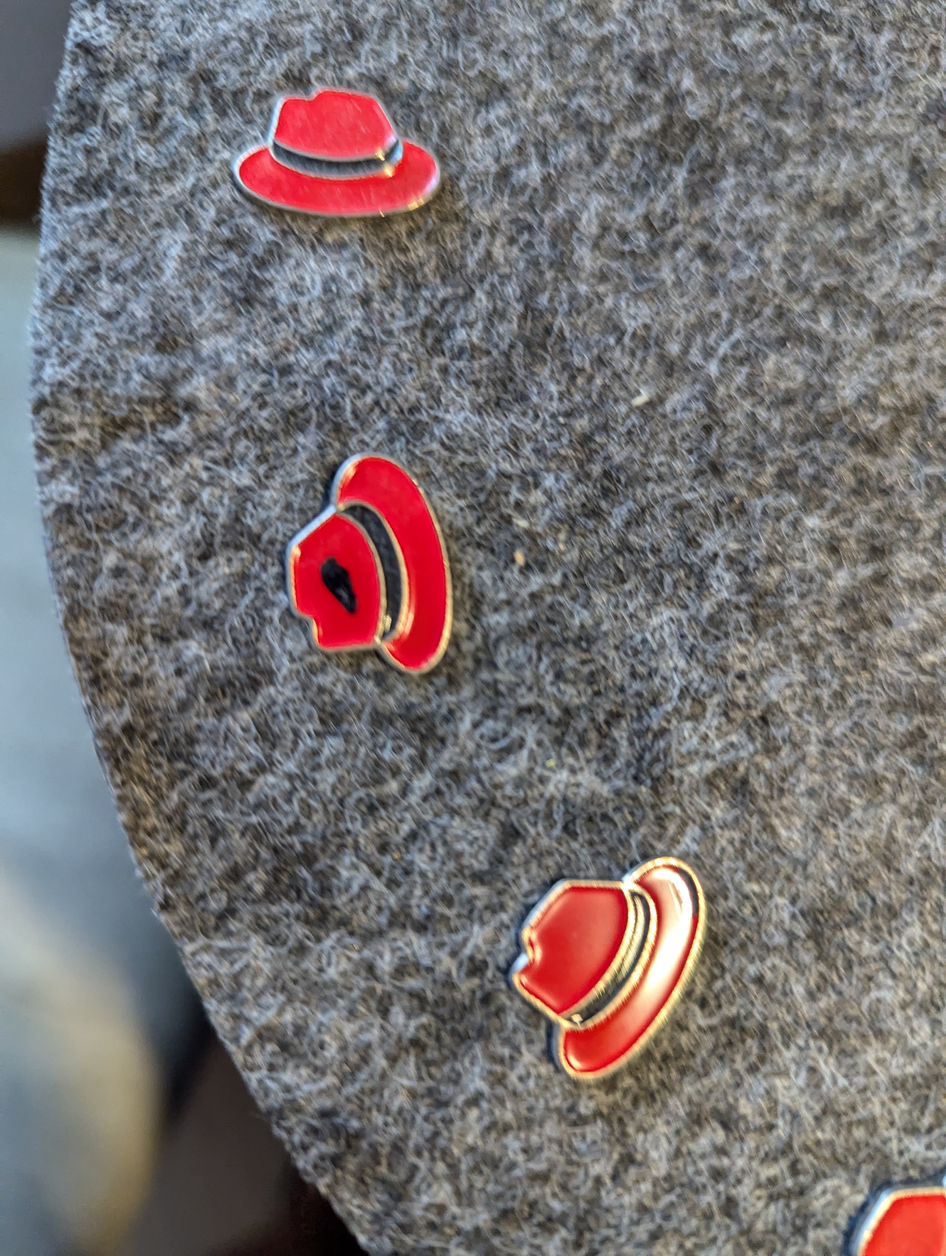Red-Hat: (487, 811, 764, 1145), (242, 432, 487, 687), (209, 67, 487, 239)
Scratch: (309, 544, 370, 638)
